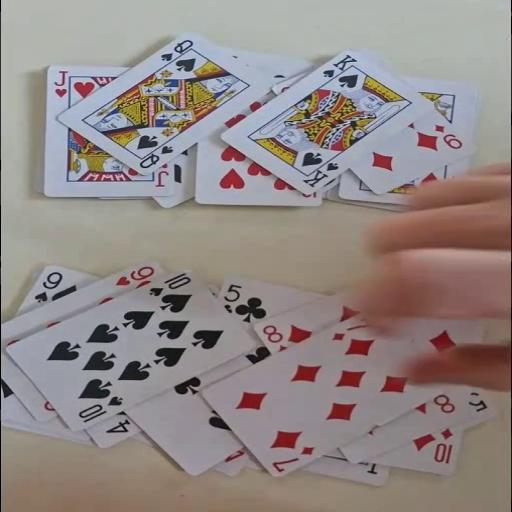10: (75, 394, 125, 424), (146, 270, 192, 297)
4: (103, 416, 129, 434)
5: (220, 282, 244, 314)
7: (269, 444, 316, 473)
9: (31, 269, 64, 303), (111, 263, 156, 287), (431, 122, 465, 150)
J: (51, 70, 68, 98), (152, 164, 170, 188)
K: (299, 160, 341, 188), (319, 52, 359, 79)
Q: (135, 143, 172, 169), (157, 38, 195, 62), (136, 146, 163, 169)
